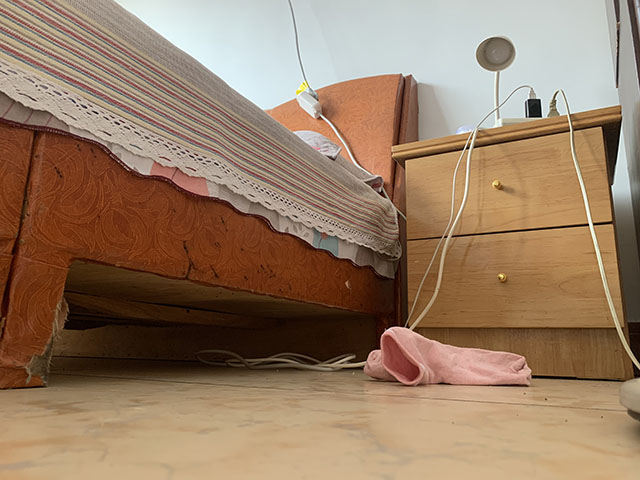bed: (1, 1, 420, 393)
cabinet: (390, 103, 637, 383)
socks: (362, 325, 534, 390)
wire: (194, 84, 640, 374)
